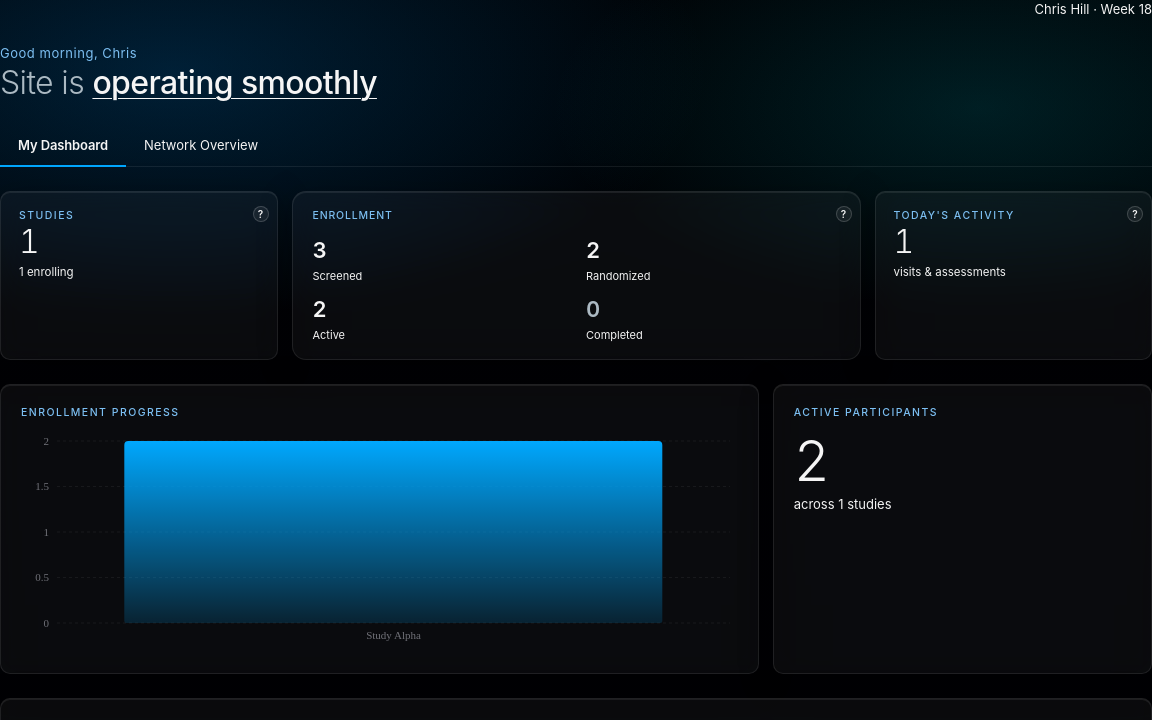
Test case: Overview — Network Overview tab › renders site cards when Network tab is active
Click the tab "Network Overview": (201, 147) [126,126,276,167]
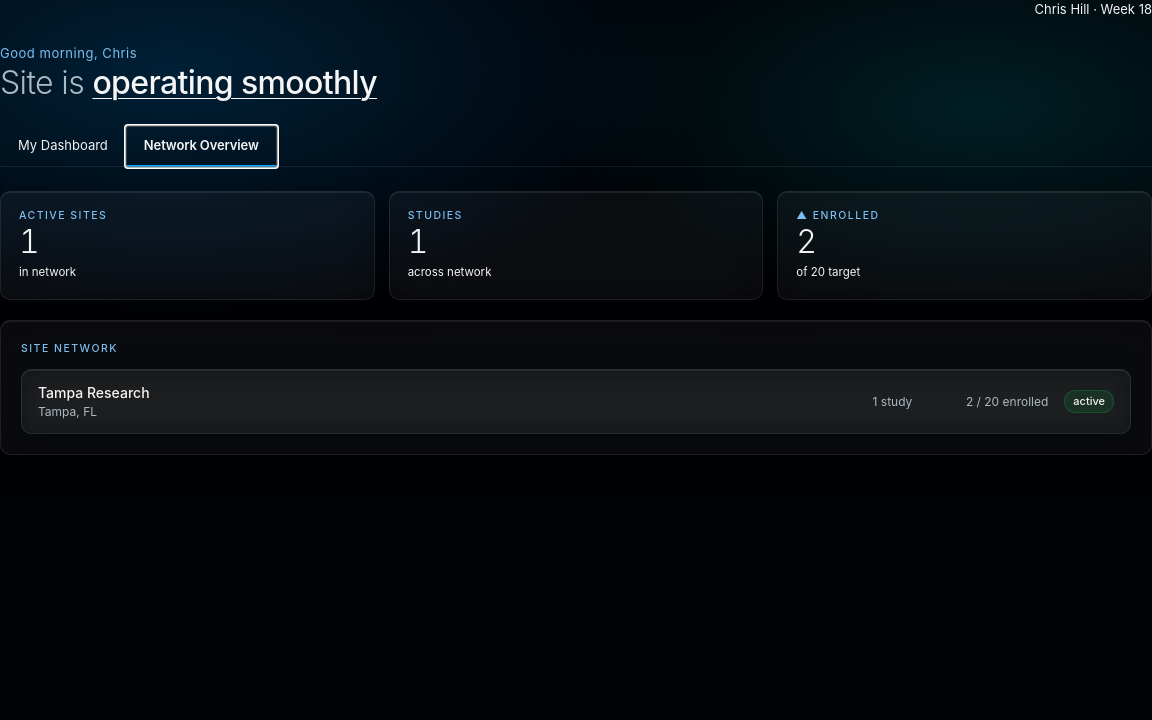
expect the text "Tampa Research" is shown: met, box [38,384,150,401]
